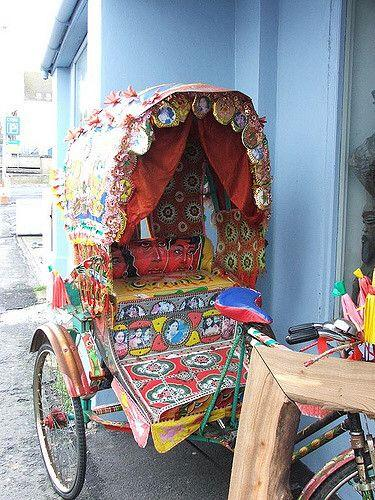Rickshaw: (31, 84, 270, 498), (270, 281, 375, 361), (296, 405, 373, 498)
